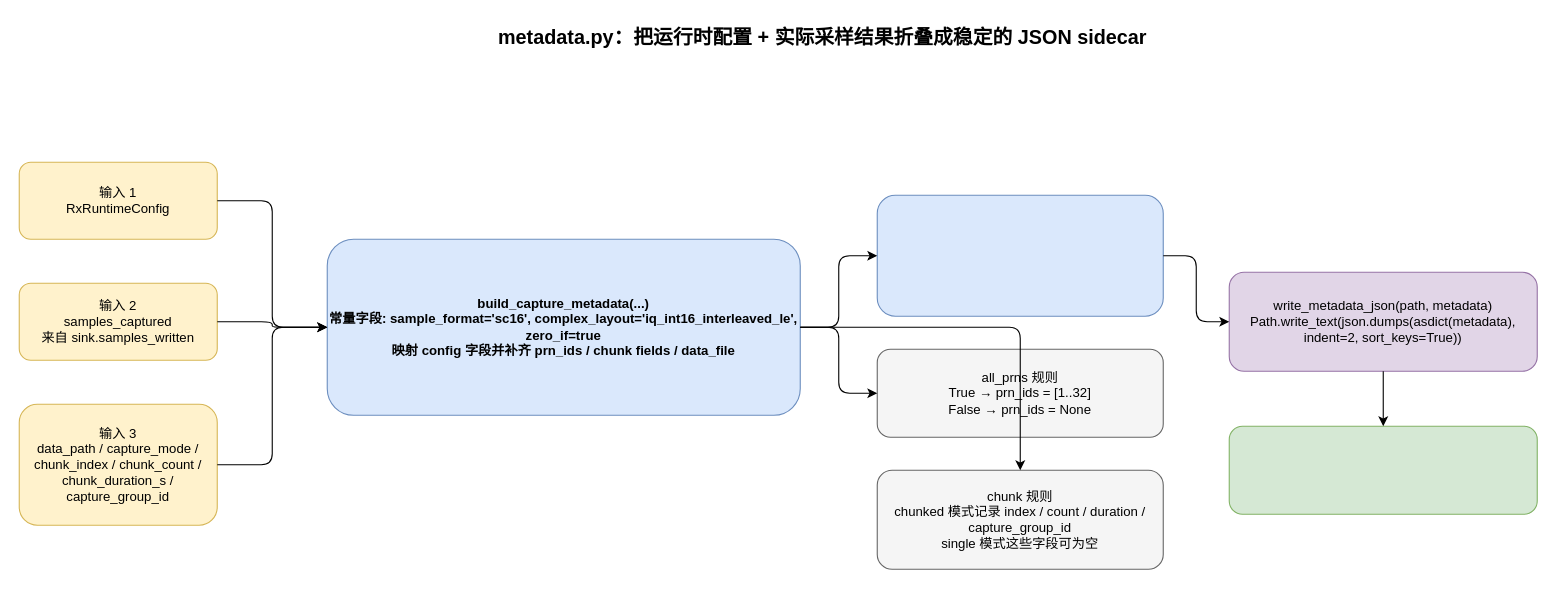
The diagram is 1557 pixels wide and 589 high, and some of its shapes have lost their labels. Each missing label, with the box of its shape:
.json sidecar 供 MATLAB / Python / diff / 实验追溯使用: (1228, 425, 1537, 514)
CaptureMetadata frozen dataclass 采样参数 + 信号描述 + 多星描述 + 长时采集字段 + 来源追溯: (876, 194, 1163, 316)
